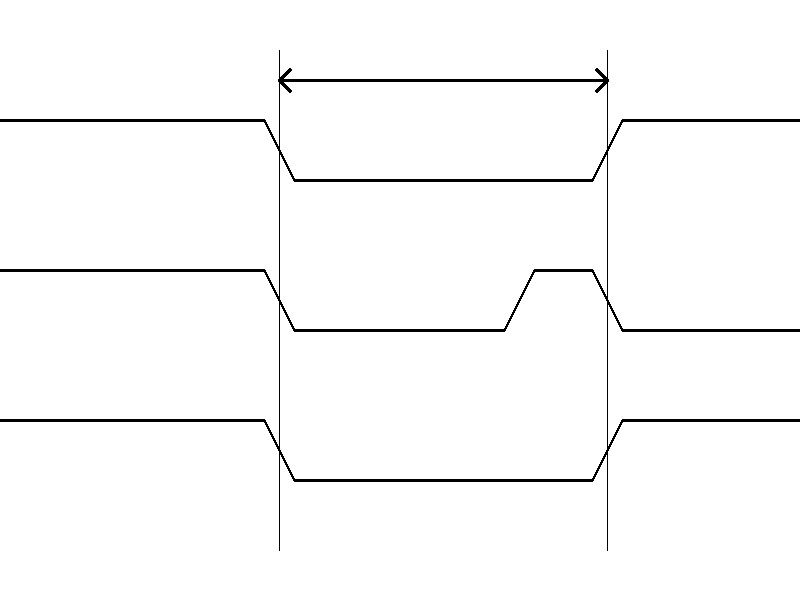double_arrow: (279, 65, 607, 95)
